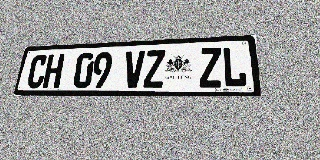0: (72, 53, 95, 88)
9: (91, 52, 113, 88)
C: (26, 55, 48, 88)
H: (42, 54, 65, 88)
L: (222, 46, 247, 87)
V: (123, 51, 145, 88)
Z: (199, 47, 222, 88), (143, 50, 165, 88)
